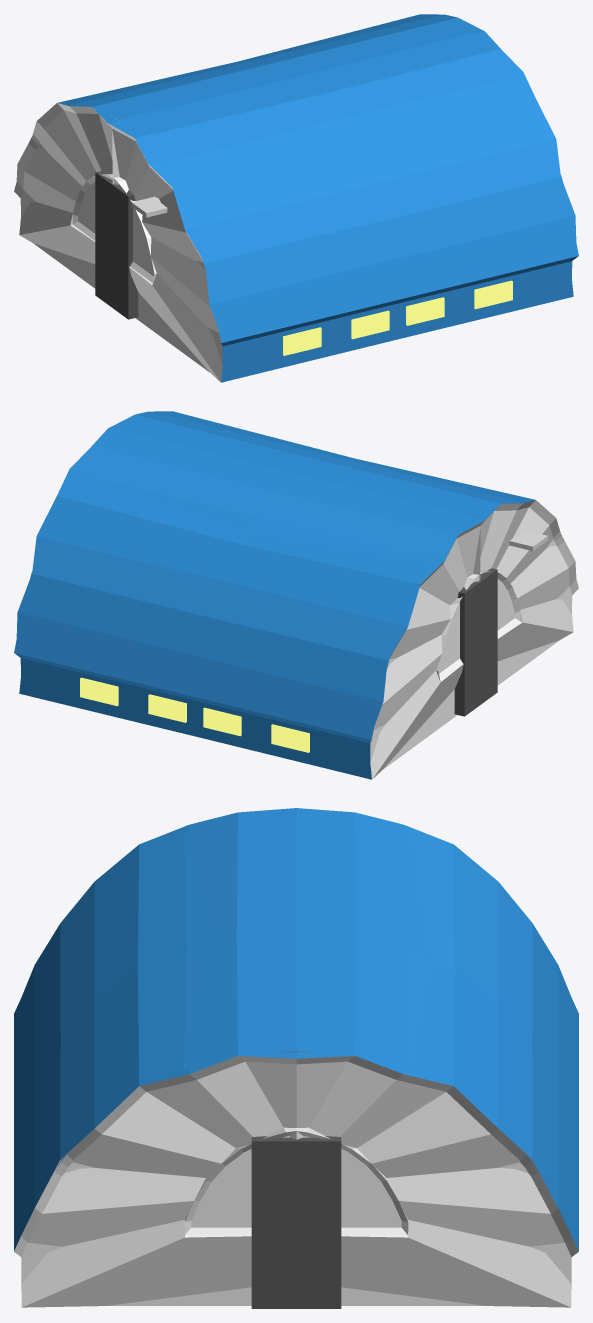
File: station.glb
The picture shows the model from 3 angles, top to bottom: view 1: azimuth 30°, elevation 25°; view 2: azimuth 150°, elevation 25°; view 3: azimuth 270°, elevation 25°; orthographic projection. The views are drawn at different scales.
Parts seen in each view (by area): view 1: station), Cube.002; view 2: station), Cube.002; view 3: station).
Part boxes in pixels (x1,y1,x2,y2): station): (14, 14, 578, 382); Cube.002: (131, 196, 167, 217); station): (14, 411, 578, 779); Cube.002: (509, 531, 547, 550); station): (14, 808, 578, 1308).
Size of the model in its own units: 0.8594 by 0.3996 by 0.7927.
